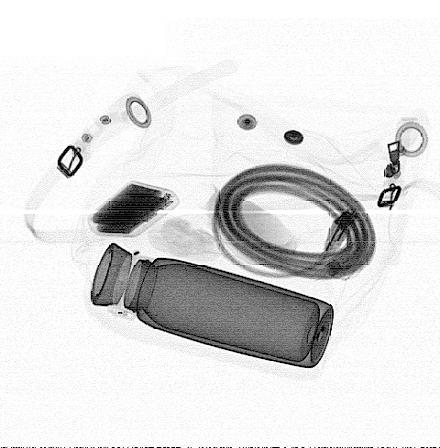Powerbank: (87, 179, 179, 238)
